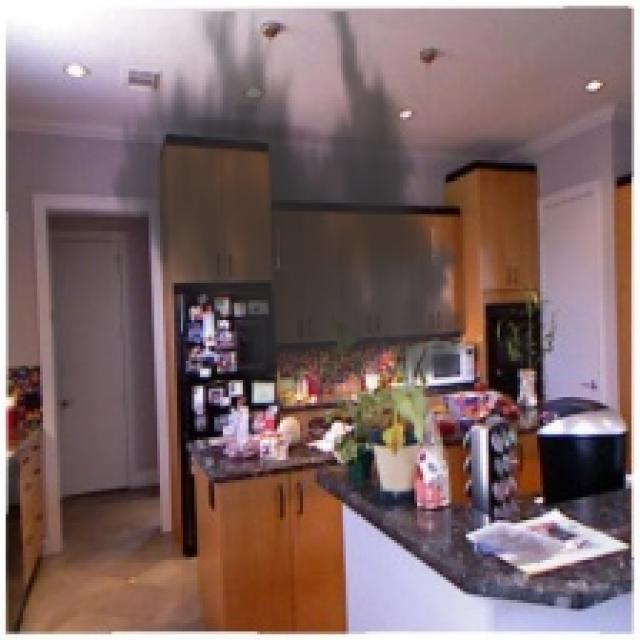smoke: (100, 12, 486, 417)
